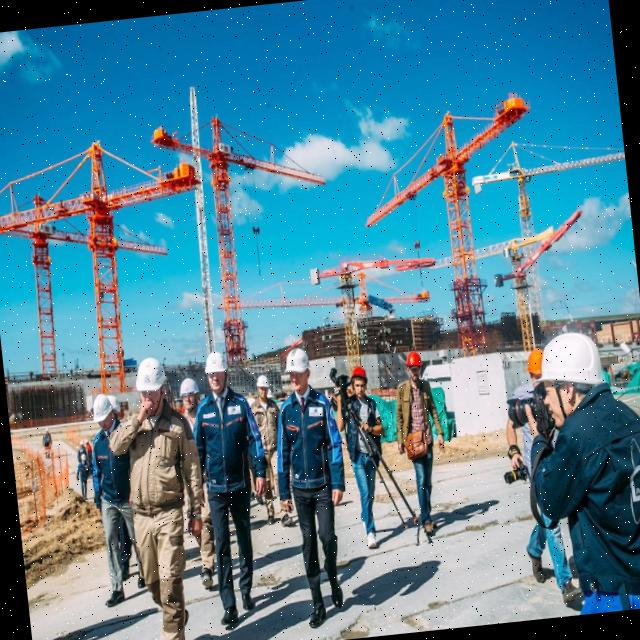Helmet: (537, 332, 607, 395), (131, 356, 172, 401), (283, 346, 314, 382), (524, 346, 549, 385), (92, 393, 117, 429), (204, 352, 231, 382), (179, 377, 202, 401), (254, 375, 273, 403), (404, 350, 425, 373), (351, 366, 369, 387), (81, 454, 88, 464), (46, 428, 51, 435), (80, 442, 85, 449), (86, 439, 90, 446)
NoJacket: (551, 398, 640, 594), (126, 407, 194, 521), (278, 387, 337, 495), (197, 388, 252, 494), (397, 380, 441, 459), (90, 435, 130, 518), (346, 396, 381, 467)
